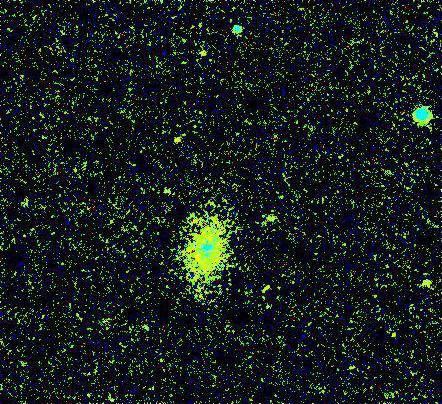star: (410, 268, 440, 298)
